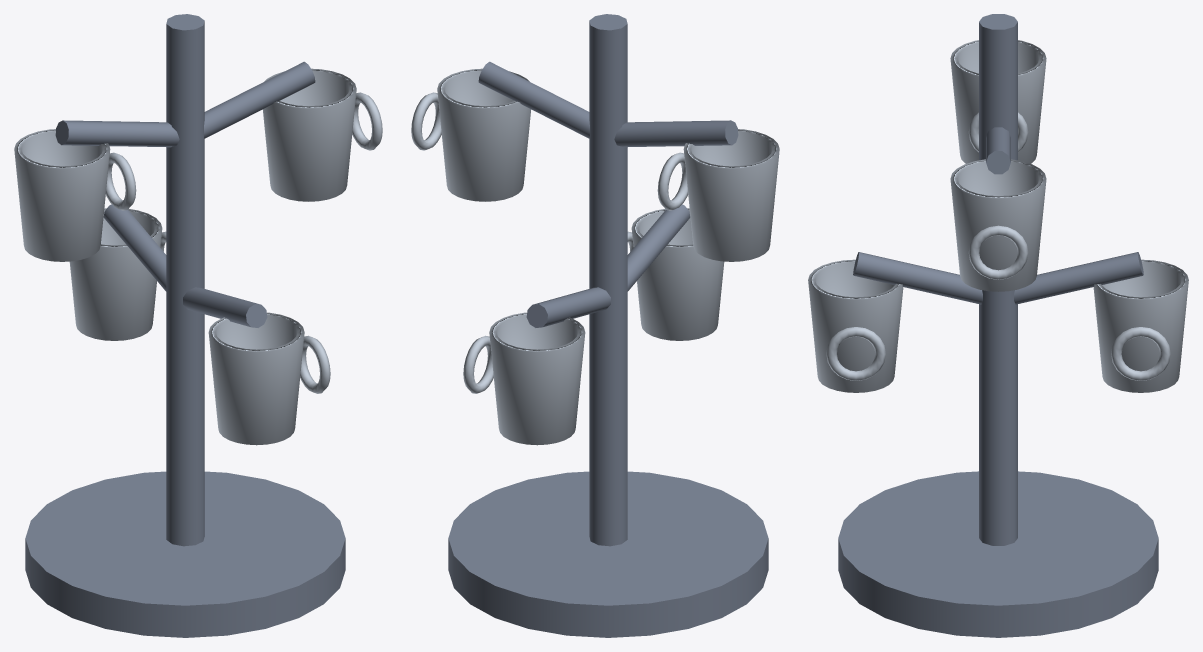
The model's file is mug-tree.glb.
3 views of the same model, side by side, from view 1: azimuth 30°, elevation 25°; view 2: azimuth 150°, elevation 25°; view 3: azimuth 270°, elevation 25° (orthographic).
Parts seen in each view (by area): view 1: body, light; view 2: body, light; view 3: body, light.
Boxes of the visible parts, x1,y1,x2,y2 form: body: [25, 14, 345, 637]; light: [14, 68, 382, 445]; body: [448, 14, 768, 637]; light: [411, 68, 779, 445]; body: [838, 14, 1158, 637]; light: [808, 40, 1188, 392].
Bounding box in the file's own units: 0.2262 × 0.34 × 0.214.
